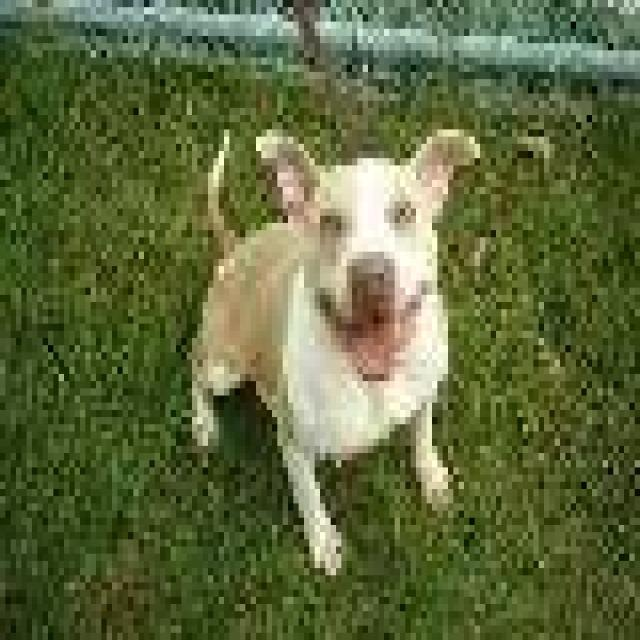dog: (187, 122, 480, 576)
